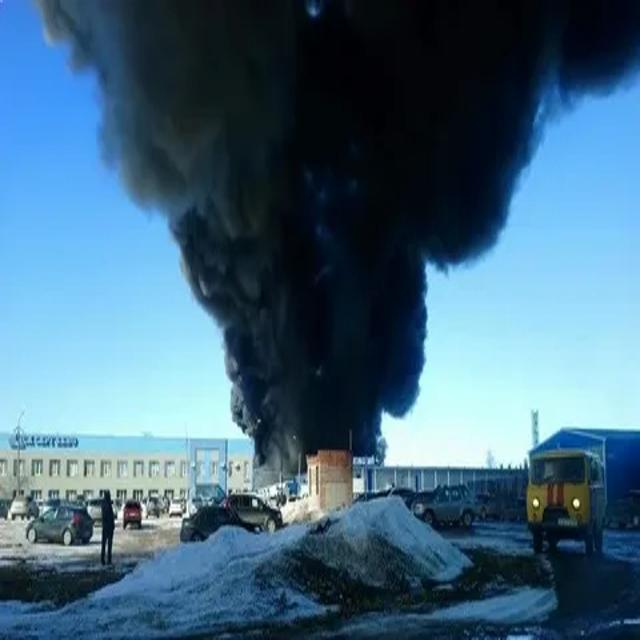Smoke: (37, 0, 640, 460)
